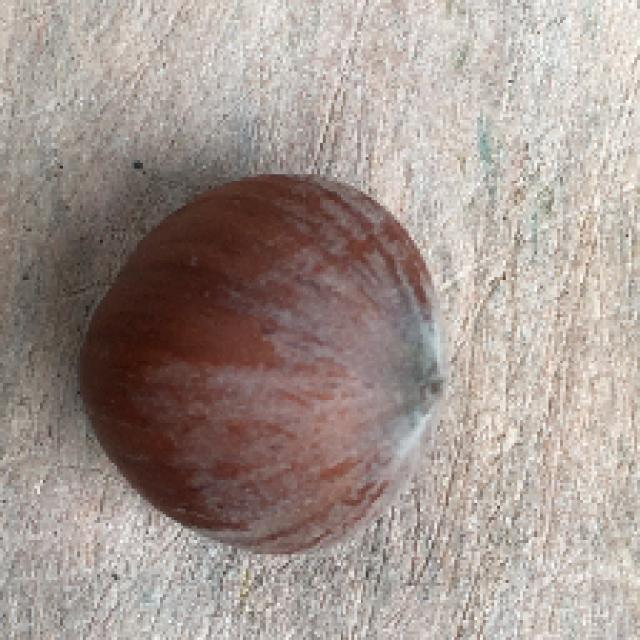qualityHazelnut: (68, 168, 451, 562)
